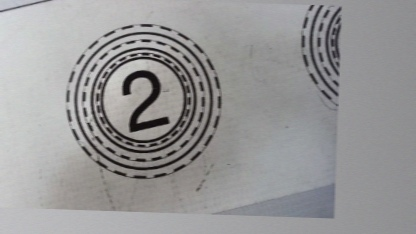2r: (61, 19, 224, 183)
